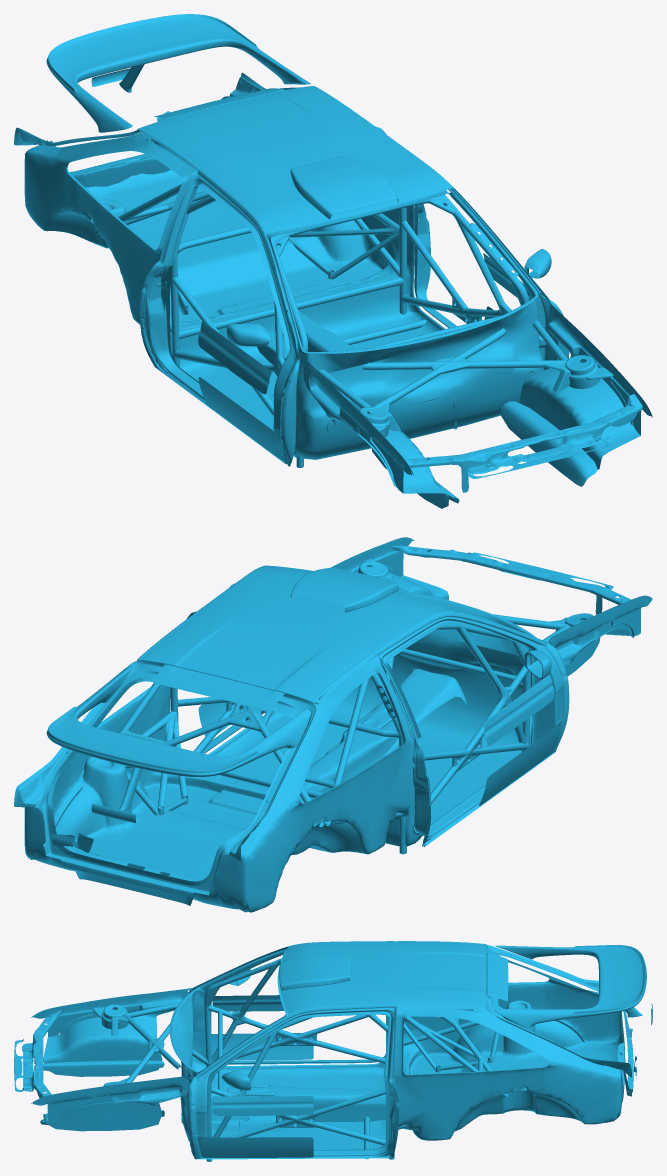
Rendered from Paint_Geo_lodA.glb.
The picture shows the model from 3 angles, top to bottom: view 1: azimuth 30°, elevation 25°; view 2: azimuth 150°, elevation 25°; view 3: azimuth 270°, elevation 25°; orthographic projection. The views are drawn at different scales.
Visible parts, largest first — view 1: Paint_Geo_lodA; view 2: Paint_Geo_lodA; view 3: Paint_Geo_lodA.
Boxes of the visible parts, x1,y1,x2,y2 form: Paint_Geo_lodA: [14, 14, 652, 508]; Paint_Geo_lodA: [14, 537, 652, 912]; Paint_Geo_lodA: [14, 941, 652, 1161].
Size of the model in its own units: 1.68 by 1.05 by 3.96.
